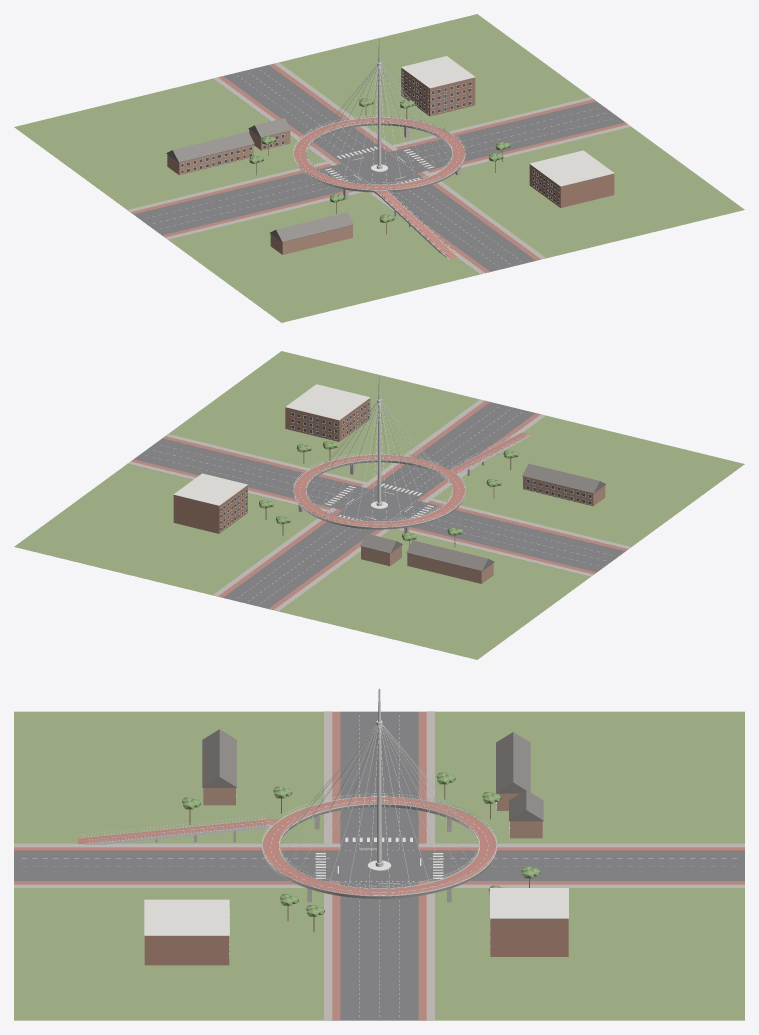
File: clay-cable-stayed-cycle-ring-clay-v001.glb
3 views of the same model, one above another, from view 1: azimuth 30°, elevation 25°; view 2: azimuth 150°, elevation 25°; view 3: azimuth 270°, elevation 25° (orthographic). The views are drawn at different scales.
Parts seen in each view (by area): view 1: CLAY_GRASS, CLAY_ASPHALT, CLAY_CYCLE, CLAY_PAVING, CLAY_TRIM, CLAY_BRICK, CLAY_RED, CLAY_ROOF, CLAY_BRICK2, CLAY_CABLE, CLAY_WHITE, CLAY_RAIL (+3 smaller); view 2: CLAY_GRASS, CLAY_ASPHALT, CLAY_CYCLE, CLAY_PAVING, CLAY_TRIM, CLAY_BRICK, CLAY_RED, CLAY_ROOF, CLAY_BRICK2, CLAY_CABLE, CLAY_WHITE, CLAY_RAIL (+3 smaller); view 3: CLAY_GRASS, CLAY_ASPHALT, CLAY_PAVING, CLAY_CYCLE, CLAY_RED, CLAY_TRIM, CLAY_BRICK, CLAY_ROOF, CLAY_CABLE, CLAY_WHITE, CLAY_RAIL, CLAY_LANE (+3 smaller).
Part boxes in pixels (bbox=[...]): CLAY_GRASS: bbox=[14, 14, 744, 322]; CLAY_ASPHALT: bbox=[133, 65, 624, 271]; CLAY_CYCLE: bbox=[131, 63, 627, 272]; CLAY_PAVING: bbox=[127, 62, 631, 274]; CLAY_TRIM: bbox=[181, 56, 614, 205]; CLAY_BRICK: bbox=[401, 68, 614, 207]; CLAY_RED: bbox=[294, 118, 464, 258]; CLAY_ROOF: bbox=[166, 118, 353, 242]; CLAY_BRICK2: bbox=[167, 130, 352, 254]; CLAY_CABLE: bbox=[307, 65, 451, 184]; CLAY_WHITE: bbox=[293, 117, 464, 259]; CLAY_RAIL: bbox=[293, 115, 465, 256]; CLAY_GRASS: bbox=[14, 351, 744, 659]; CLAY_ASPHALT: bbox=[134, 402, 625, 608]; CLAY_CYCLE: bbox=[131, 400, 627, 609]; CLAY_PAVING: bbox=[127, 399, 631, 611]; CLAY_TRIM: bbox=[173, 384, 591, 531]; CLAY_BRICK: bbox=[173, 398, 370, 533]; CLAY_RED: bbox=[294, 432, 530, 527]; CLAY_ROOF: bbox=[360, 463, 606, 571]; CLAY_BRICK2: bbox=[361, 476, 605, 583]; CLAY_CABLE: bbox=[307, 402, 451, 521]; CLAY_WHITE: bbox=[294, 433, 530, 529]; CLAY_RAIL: bbox=[293, 431, 529, 526]; CLAY_GRASS: bbox=[14, 711, 744, 1020]; CLAY_ASPHALT: bbox=[14, 711, 744, 1020]; CLAY_PAVING: bbox=[14, 711, 744, 1020]; CLAY_CYCLE: bbox=[14, 711, 744, 1020]; CLAY_RED: bbox=[78, 797, 496, 895]; CLAY_TRIM: bbox=[144, 788, 568, 959]; CLAY_BRICK: bbox=[144, 919, 568, 965]; CLAY_ROOF: bbox=[202, 729, 543, 821]; CLAY_CABLE: bbox=[280, 724, 478, 887]; CLAY_WHITE: bbox=[78, 796, 496, 898]; CLAY_RAIL: bbox=[80, 793, 496, 895]; CLAY_LANE: bbox=[22, 715, 736, 1016].
Size of the model in its own units: 224 by 60 by 224.
